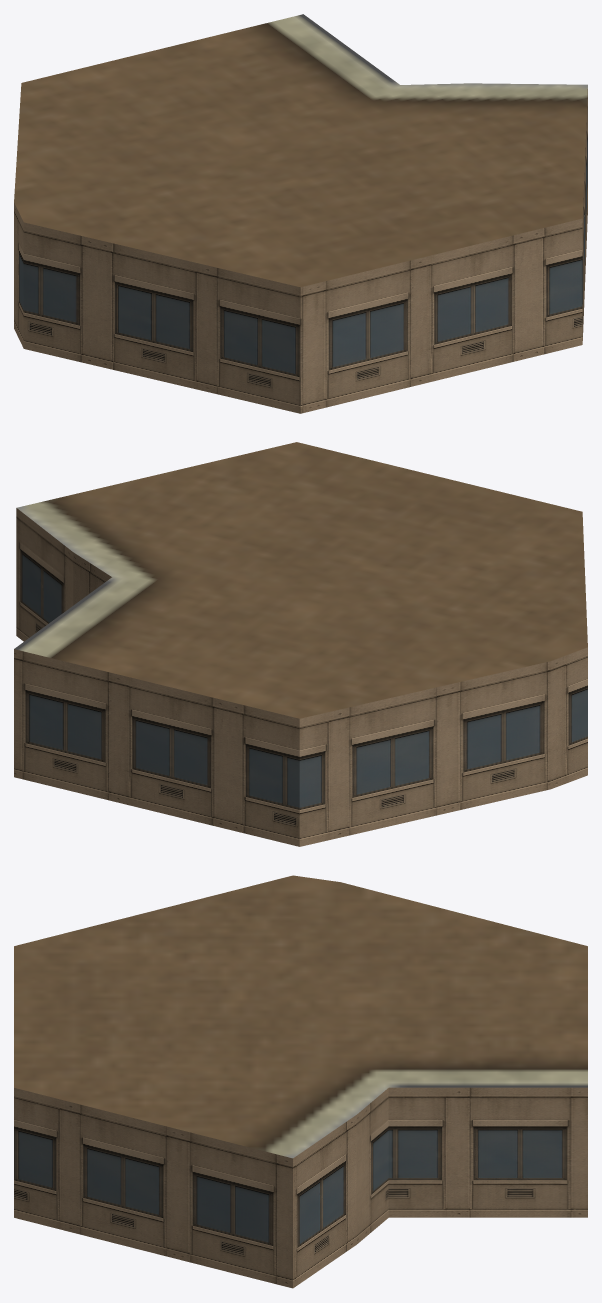
File: light_roof67.glb
3 views of the same model, one above another, from view 1: azimuth 30°, elevation 25°; view 2: azimuth 150°, elevation 25°; view 3: azimuth 270°, elevation 25° (orthographic). The views are drawn at different scales.
Parts seen in each view (by area): view 1: buildings/saxarba/light/light_roof67; view 2: buildings/saxarba/light/light_roof67; view 3: buildings/saxarba/light/light_roof67.
Part boxes in pixels (x1,y1,x2,y2): buildings/saxarba/light/light_roof67: [14, 14, 587, 413]; buildings/saxarba/light/light_roof67: [14, 442, 587, 846]; buildings/saxarba/light/light_roof67: [14, 875, 587, 1288].
Size of the model in its own units: 84 by 18 by 72.
